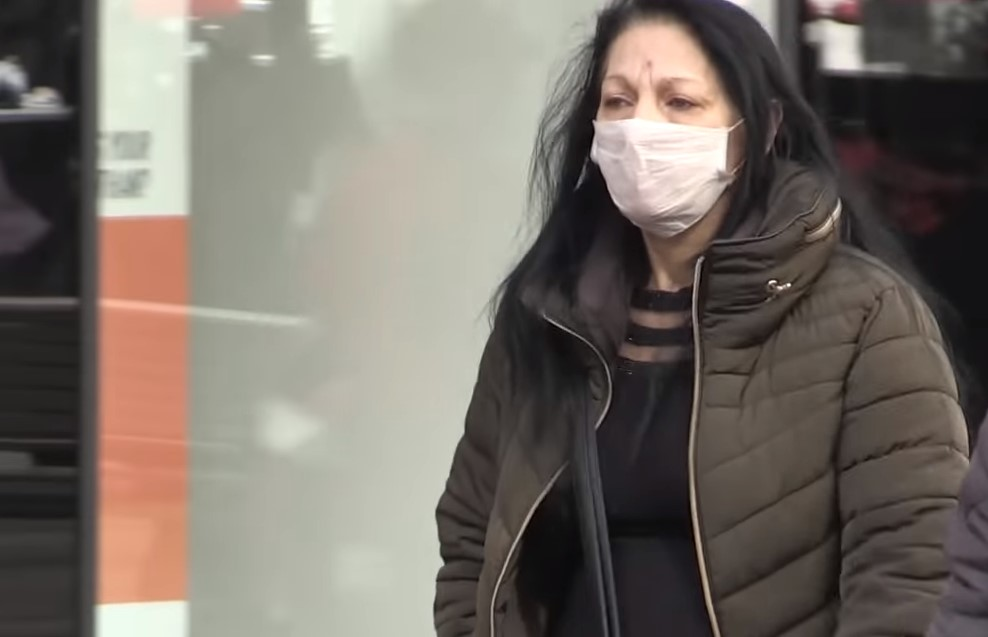face_with_mask: (580, 7, 771, 250)
